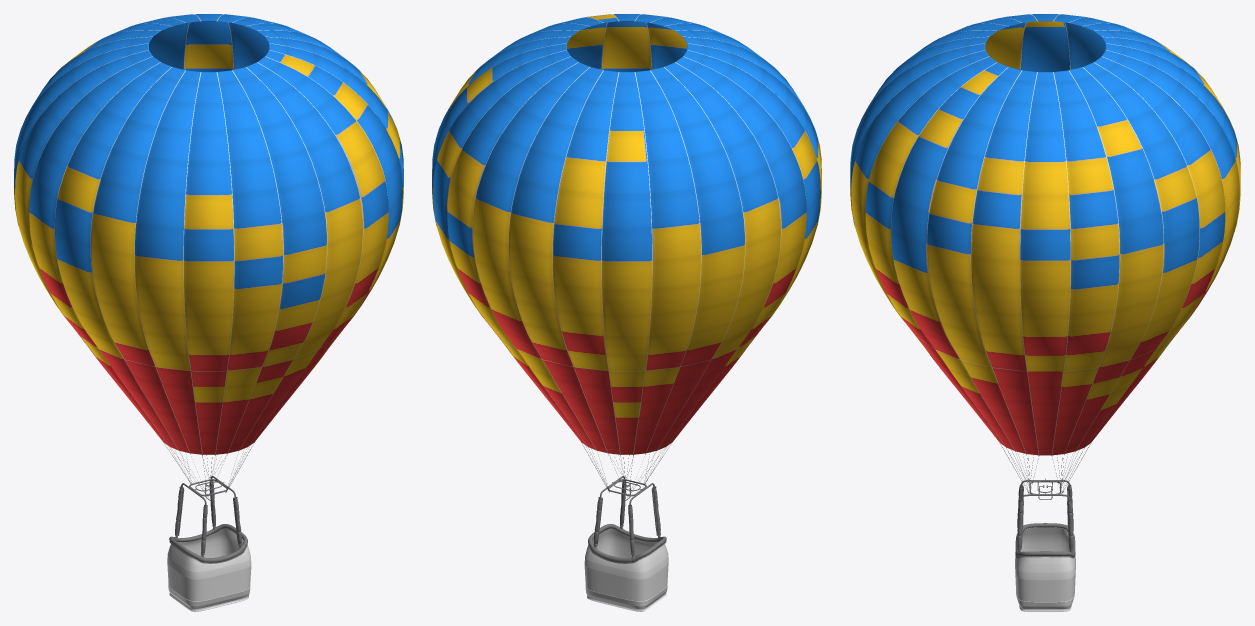
The model's file is level20.fbx.
3 views of the same model, side by side, from view 1: azimuth 30°, elevation 25°; view 2: azimuth 150°, elevation 25°; view 3: azimuth 270°, elevation 25° (orthographic).
Parts seen in each view (by area): view 1: polySurface60, polySurface97; view 2: polySurface60, polySurface97; view 3: polySurface60, polySurface97.
Boxes of the visible parts, x1,y1,x2,y2 form: polySurface60: (14, 14, 403, 496); polySurface97: (167, 476, 251, 611); polySurface60: (432, 14, 821, 496); polySurface97: (584, 476, 668, 611); polySurface60: (850, 14, 1240, 493); polySurface97: (1015, 478, 1075, 611).
Size of the model in its own units: 19.84 by 30.91 by 19.84.
